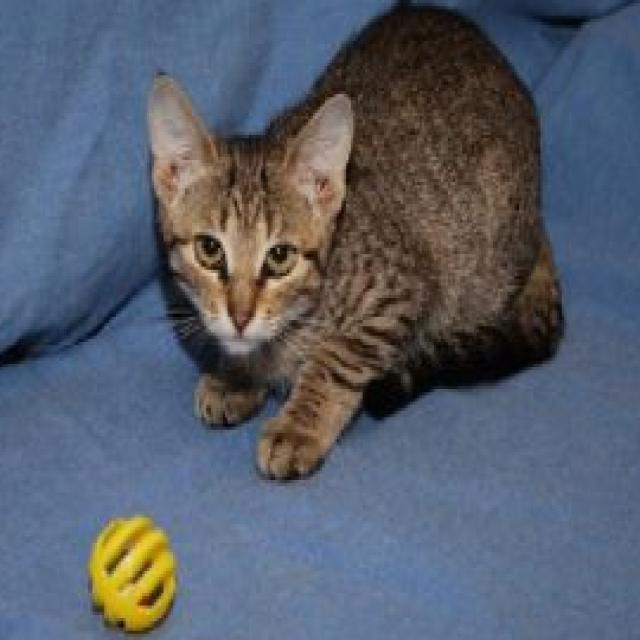Bengal: (135, 0, 578, 499)
